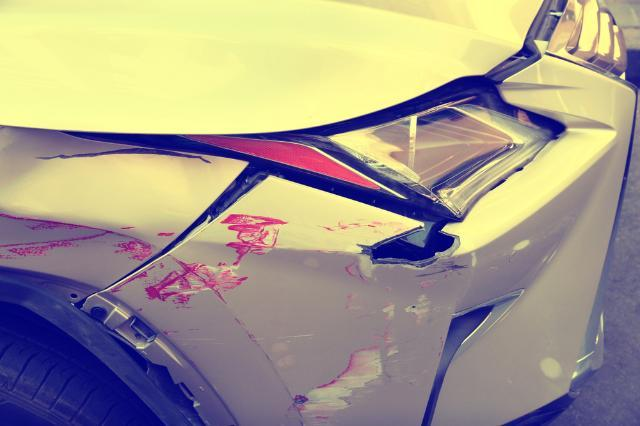crack: (370, 224, 459, 270)
dislocated part: (88, 163, 276, 302)
scratch: (112, 207, 467, 426), (0, 211, 177, 267), (32, 146, 214, 166)
